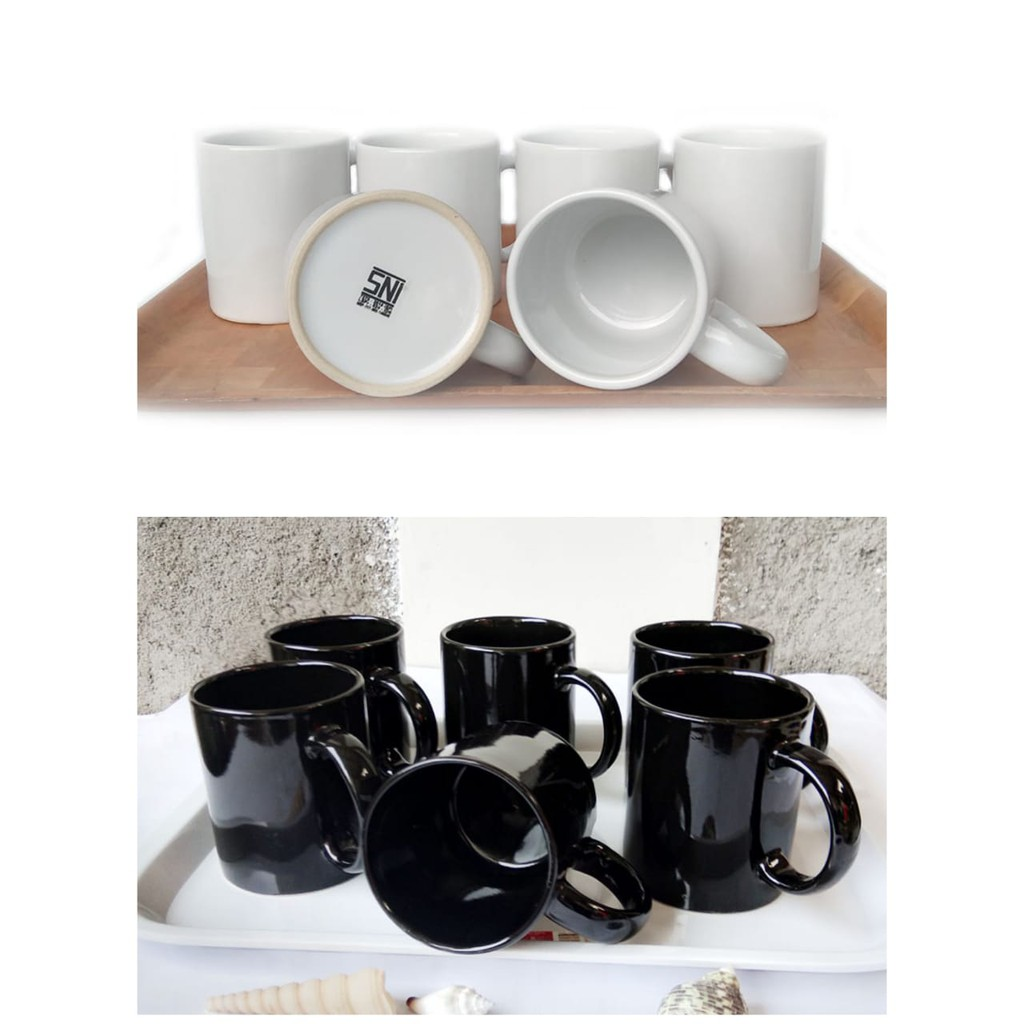gelas: (349, 734, 624, 975), (618, 662, 862, 929), (171, 655, 374, 920), (507, 185, 759, 387), (285, 185, 494, 396), (673, 127, 822, 326), (442, 617, 619, 751), (198, 126, 289, 328)
